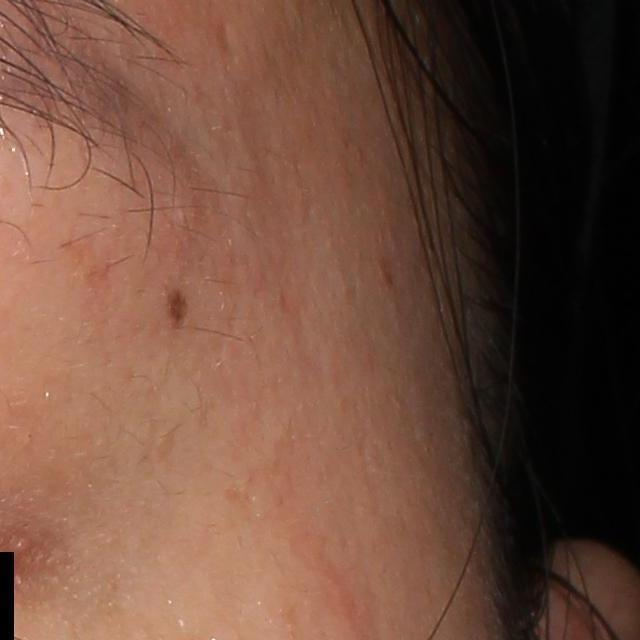nevus: (166, 287, 191, 331)
